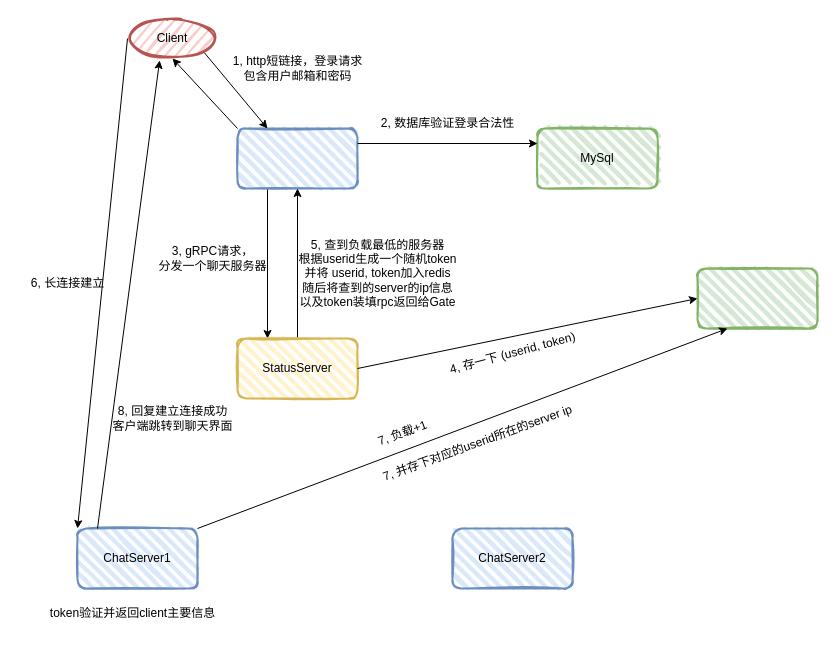
Image size: 835x645. Some labels were removed from this diagram. Here are the shapes that lost their labels. From the top down, the box of each, then its label:
(236, 127, 358, 189): GateServer
(696, 267, 818, 329): Redis
